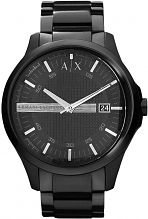watch: (1, 1, 148, 215)
